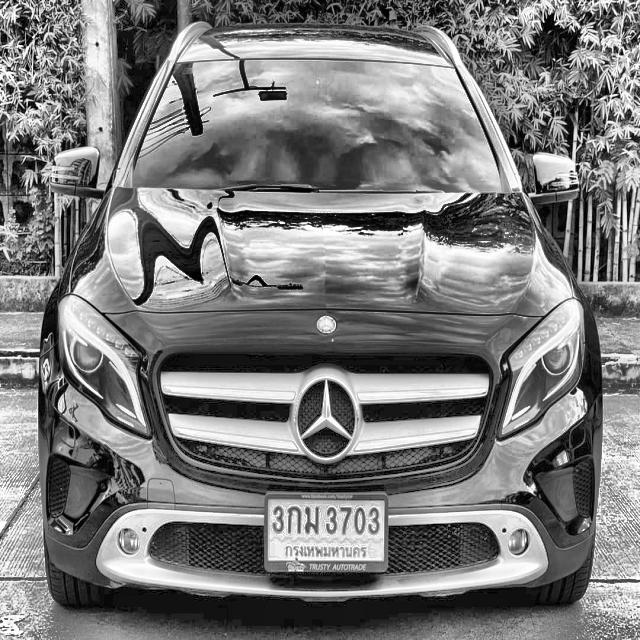license-plate: (262, 488, 390, 575)
